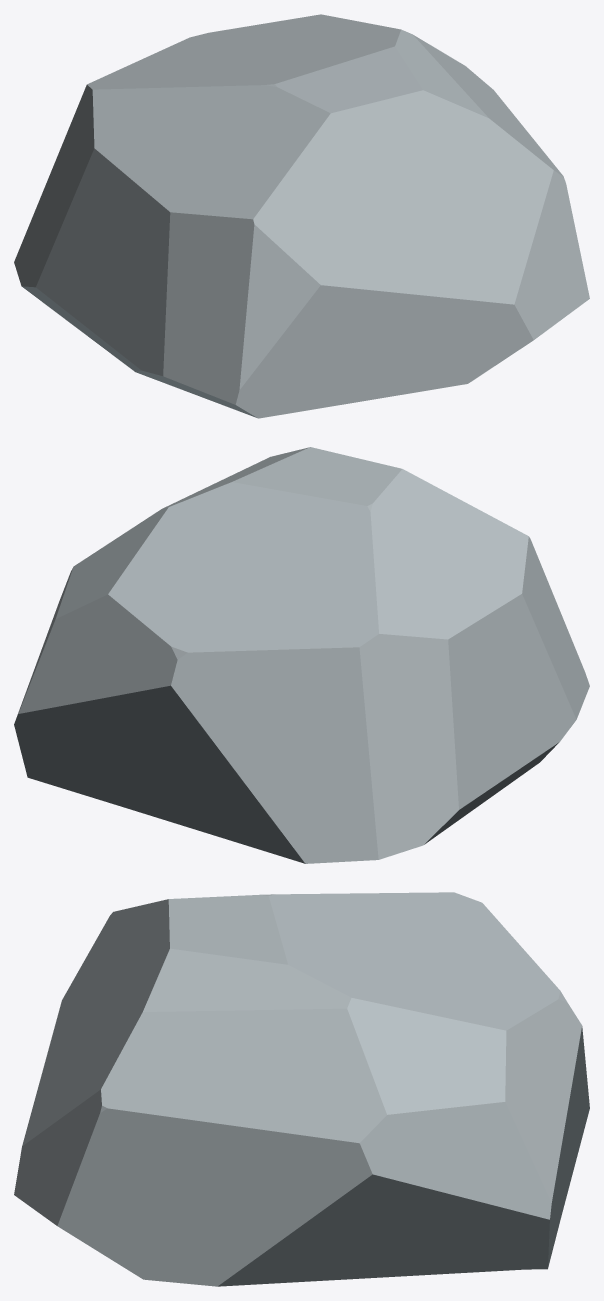
The model's file is SM_Rock_004.fbx.
3 renders of one model, top to bottom at view 1: azimuth 30°, elevation 25°; view 2: azimuth 150°, elevation 25°; view 3: azimuth 270°, elevation 25°, orthographic. The views are drawn at different scales.
Parts seen in each view (by area): view 1: Rock_004; view 2: Rock_004; view 3: Rock_004.
Boxes of the visible parts, <box> form: Rock_004: <box>14,14,589,418</box>; Rock_004: <box>14,447,589,863</box>; Rock_004: <box>14,892,589,1286</box>.
Bounding box in the file's own units: 159 × 83.57 × 168.
1 material, 1 textured.
